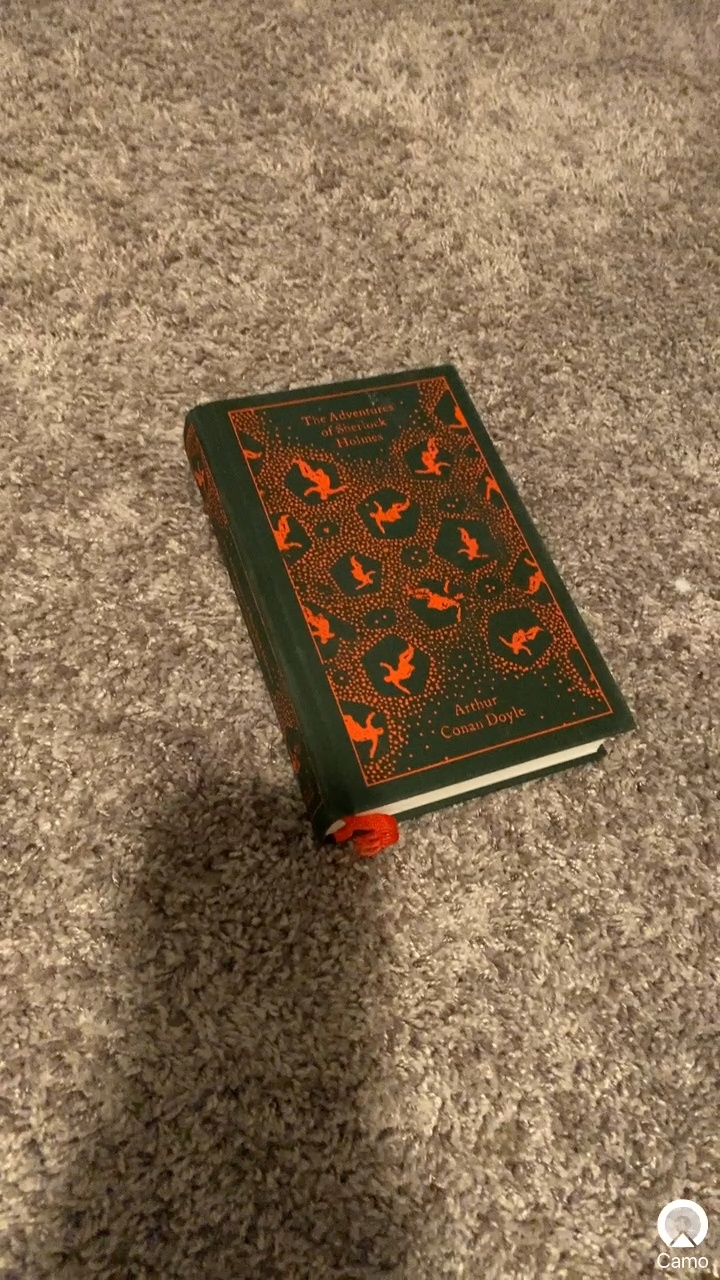Book: (148, 336, 664, 870)
